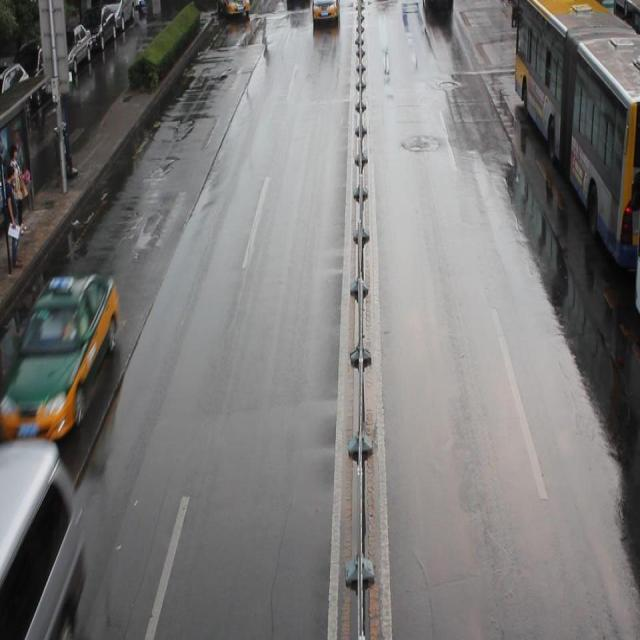car: (1, 271, 119, 445), (312, 1, 338, 22), (220, 1, 250, 18), (424, 1, 452, 12)
truck: (0, 434, 90, 640)
van: (514, 1, 640, 270), (633, 243, 638, 316)
